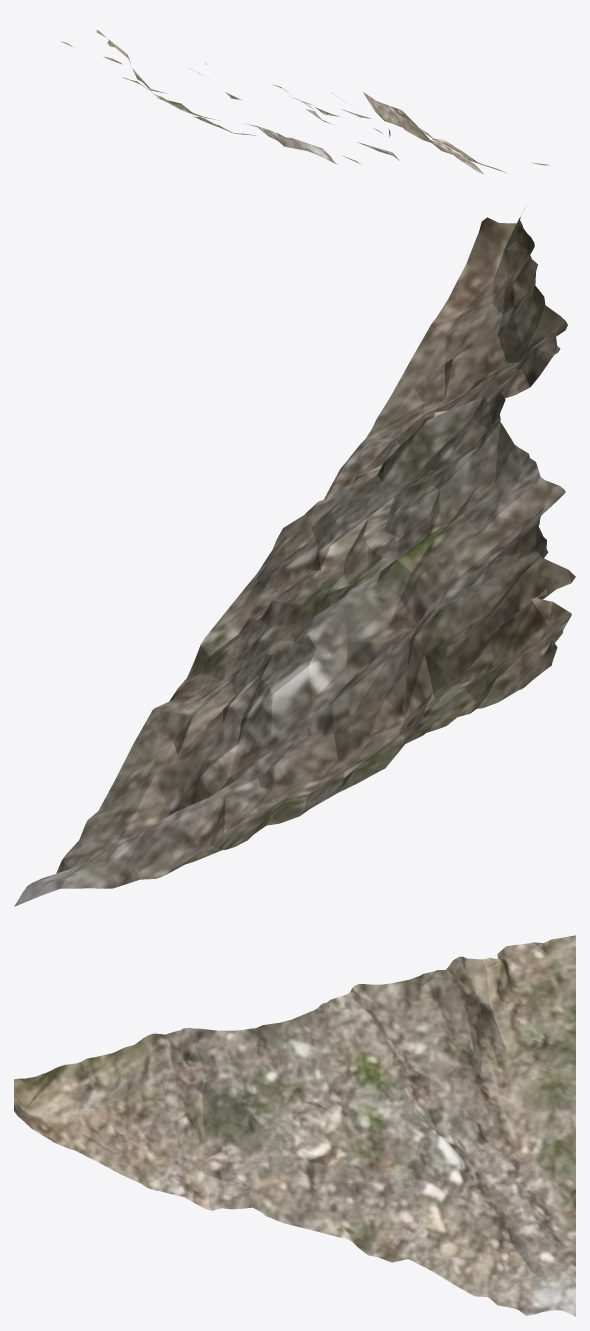
3 renders of one model, top to bottom at view 1: azimuth 30°, elevation 25°; view 2: azimuth 150°, elevation 25°; view 3: azimuth 270°, elevation 25°, orthographic. The views are drawn at different scales.
Bounding box in the file's own units: 1.96 × 1.3 × 2.95.
Materials: 1 (1 with a texture image).
